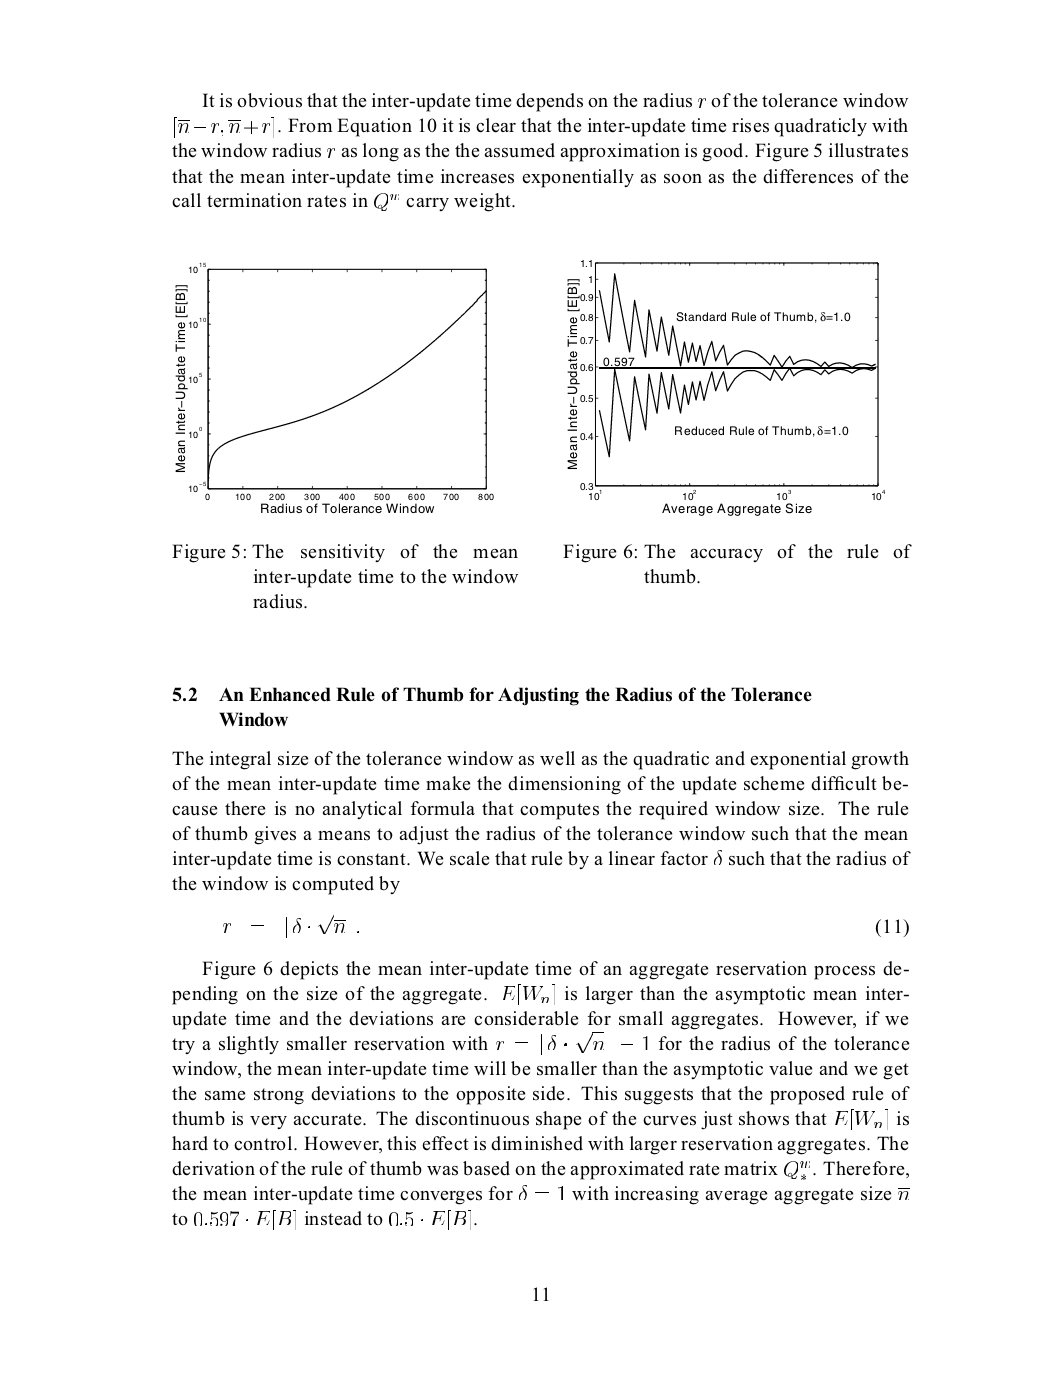figure: (567, 260, 885, 515), (175, 262, 493, 513)
formula: (223, 913, 908, 938)
